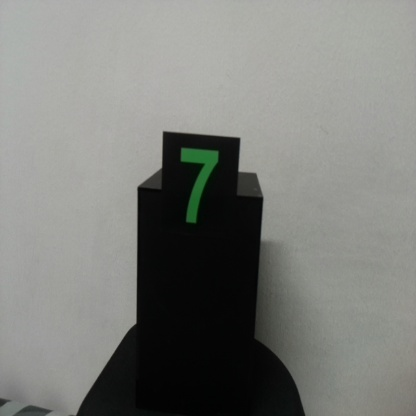id_7: (162, 132, 240, 270)
